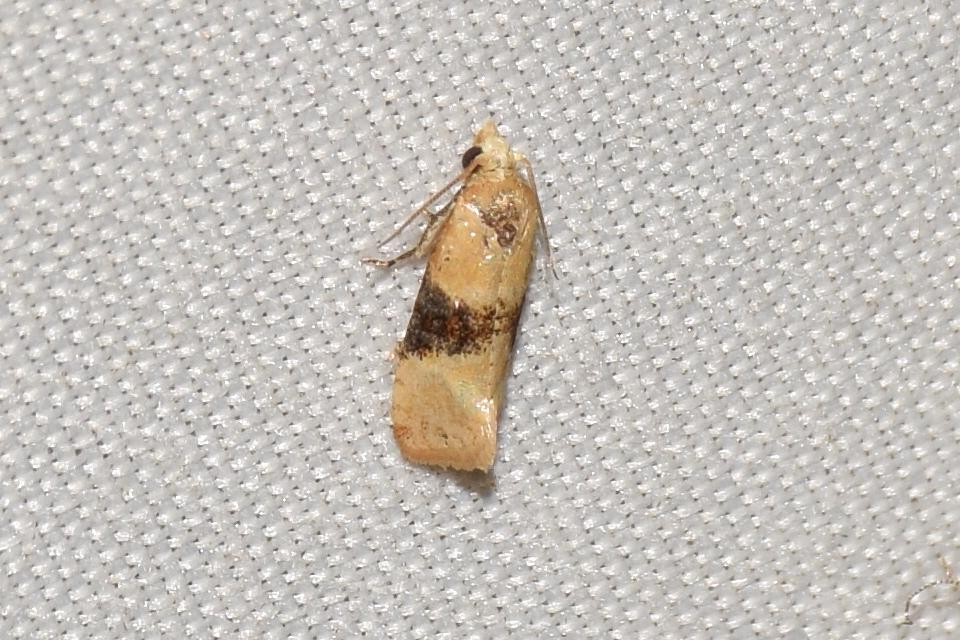Eupoecilia Ambiguella: (362, 117, 558, 477)
